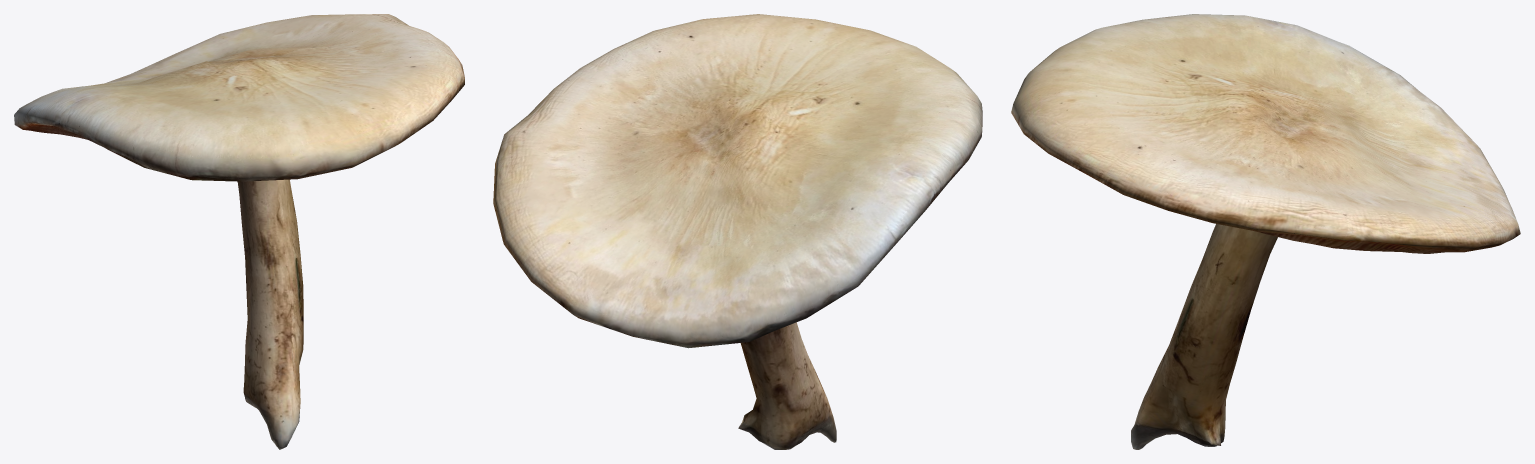
The picture shows the model from 3 angles, left to right: view 1: azimuth 30°, elevation 25°; view 2: azimuth 150°, elevation 25°; view 3: azimuth 270°, elevation 25°; orthographic projection. The views are drawn at different scales.
Parts seen in each view (by area): view 1: Object_2; view 2: Object_2; view 3: Object_2.
Boxes of the visible parts, x1,y1,x2,y2 form: Object_2: (14,14,464,449); Object_2: (493,14,982,449); Object_2: (1011,14,1520,449).
Size of the model in its own units: 0.7073 by 0.6409 by 0.7831.
1 material, 1 textured.
